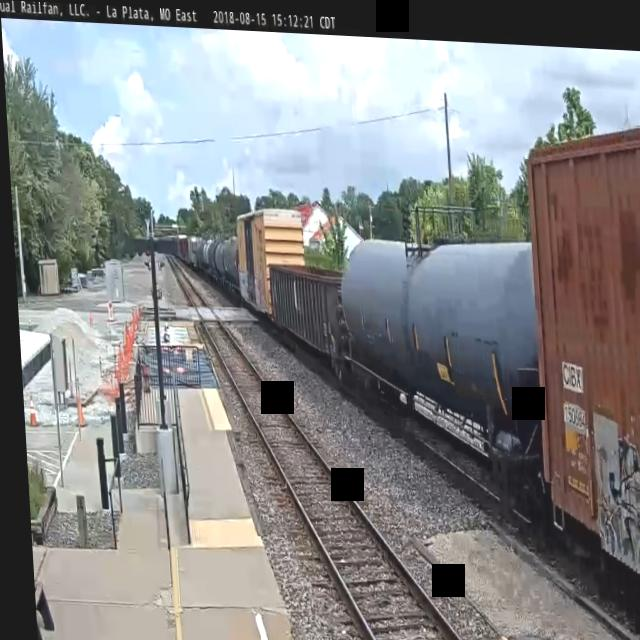boxcar: (228, 197, 307, 319)
gondola: (259, 254, 346, 374)
tank: (326, 203, 543, 513)
